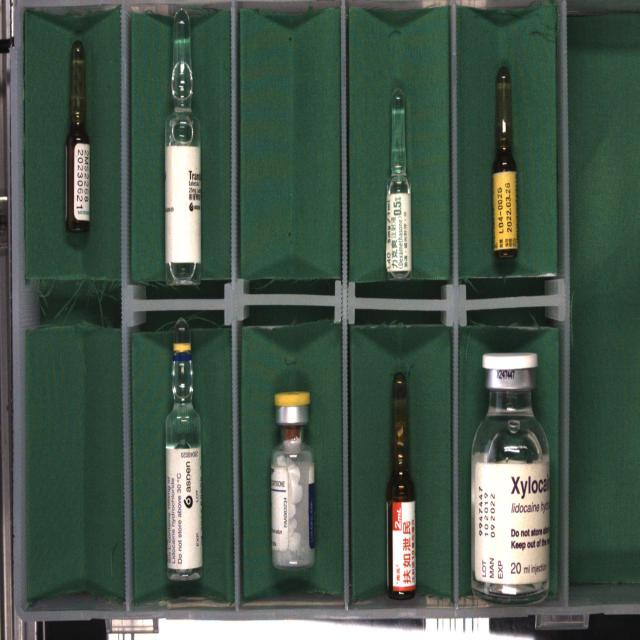Vials: (471, 353, 550, 601), (271, 391, 314, 569)
